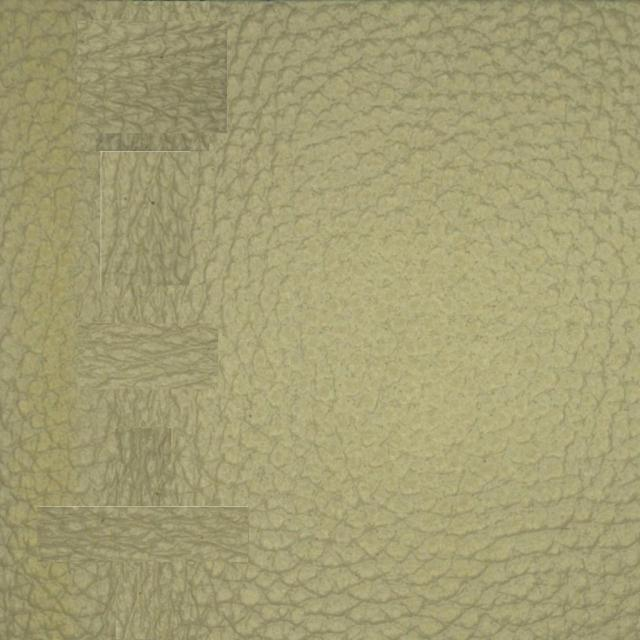Healed Injury: (27, 190, 261, 596), (52, 12, 236, 171)
